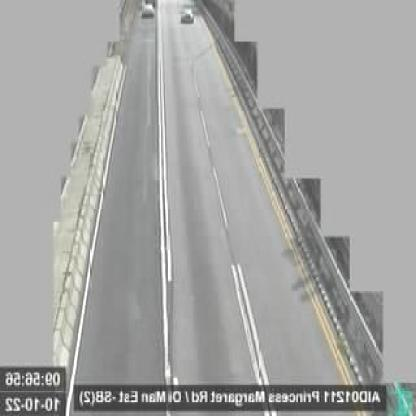Car: (180, 7, 193, 24), (143, 0, 155, 17)
